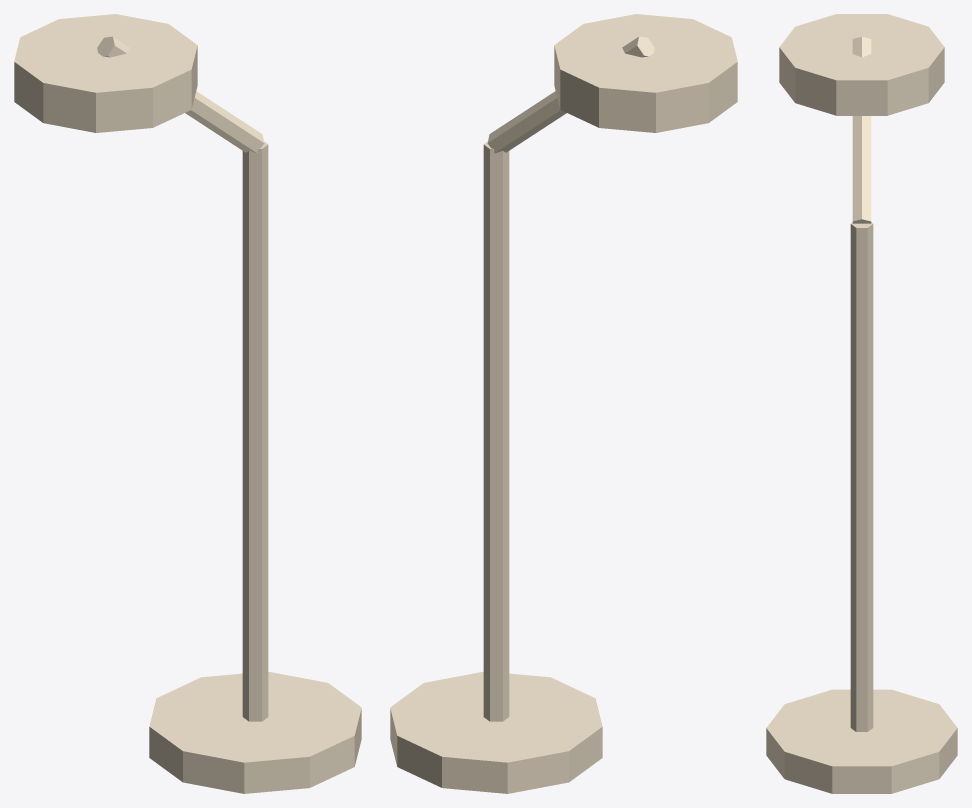
3 views of the same model, side by side, from view 1: azimuth 30°, elevation 25°; view 2: azimuth 150°, elevation 25°; view 3: azimuth 270°, elevation 25° (orthographic). The views are drawn at different scales.
Visible parts, largest first — view 1: Base, Lamp head, Stand, Arm; view 2: Base, Lamp head, Stand, Arm; view 3: Base, Lamp head, Stand, Arm.
Part boxes in pixels (x1,y1,x2,y2): Base: (149, 671, 361, 793); Lamp head: (14, 14, 197, 132); Stand: (242, 141, 268, 721); Arm: (97, 36, 264, 153); Base: (390, 671, 602, 793); Lamp head: (554, 14, 737, 132); Stand: (483, 141, 509, 721); Arm: (487, 36, 654, 153); Base: (766, 689, 957, 793); Lamp head: (779, 14, 944, 115); Stand: (850, 222, 873, 731); Arm: (852, 37, 871, 223).
Bounding box in the file's own units: 73.99 × 167 × 44.
